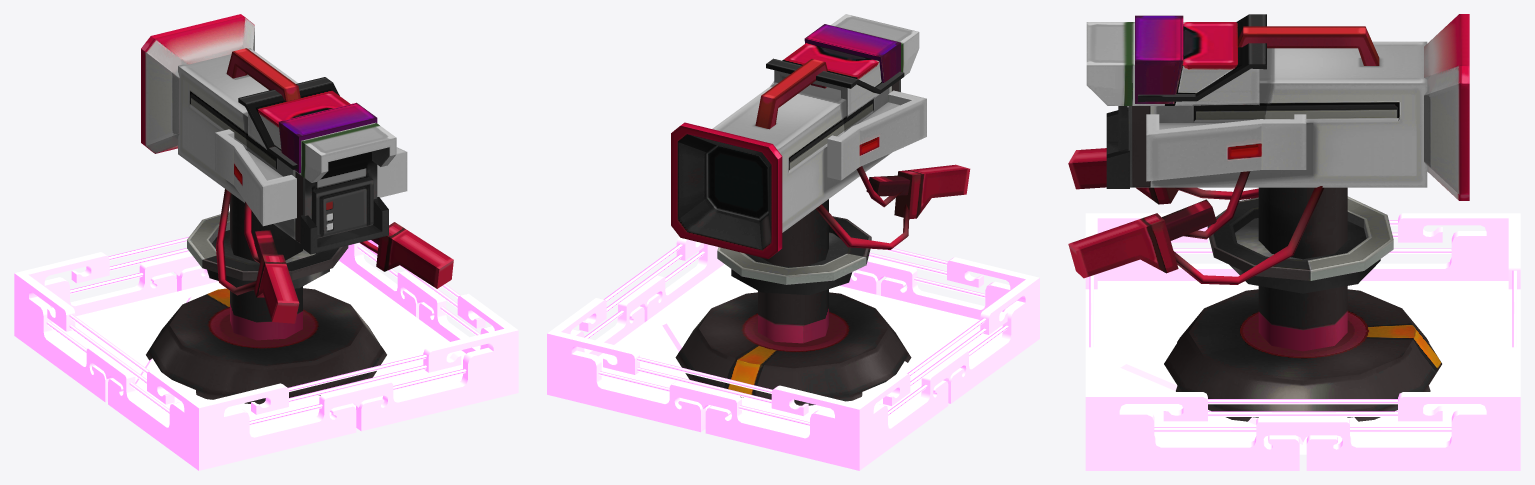
Rendered from trap_247_crfilm (merge).fbx.
3 renders of one model, left to right at view 1: azimuth 30°, elevation 25°; view 2: azimuth 150°, elevation 25°; view 3: azimuth 270°, elevation 25°, orthographic. The views are drawn at different scales.
Visible parts, largest first — view 1: trap_240_dyffdd, part2, polySurface21, polySurface8, polySurface7, polySurface23, polySurface9, polySurface17, polySurface19, polySurface27, polySurface20, polySurface30 (+3 smaller); view 2: trap_240_dyffdd, part2, polySurface8, polySurface21, polySurface23, polySurface7, polySurface27, polySurface19, polySurface30, polySurface29, polySurface26, polySurface28; view 3: trap_240_dyffdd, part2, polySurface21, polySurface7, polySurface13, polySurface8, polySurface17, polySurface19, polySurface30, polySurface27, polySurface16, polySurface29 (+4 smaller).
Boxes of the visible parts, x1,y1,x2,y2 form: trap_240_dyffdd: (14,237,518,470); part2: (146,193,386,404); polySurface21: (178,48,377,243); polySurface8: (141,14,254,153); polySurface7: (248,89,396,182); polySurface23: (215,129,296,226); polySurface9: (312,177,373,237); polySurface17: (376,222,453,288); polySurface19: (278,102,377,173); polySurface27: (254,254,299,323); polySurface20: (300,197,388,254); polySurface30: (226,48,300,101); trap_240_dyffdd: (547,237,1039,470); part2: (675,199,911,405); polySurface8: (671,122,782,258); polySurface21: (712,79,900,232); polySurface23: (827,90,926,180); polySurface7: (774,14,919,117); polySurface27: (894,164,970,219); polySurface19: (804,24,900,82); polySurface30: (755,59,827,129); polySurface29: (766,58,904,93); polySurface26: (816,204,909,249); polySurface28: (866,175,910,196); trap_240_dyffdd: (1085,213,1520,470); part2: (1164,187,1441,421); polySurface21: (1128,41,1427,187); polySurface7: (1086,22,1259,105); polySurface13: (1146,114,1306,181); polySurface8: (1424,14,1469,200); polySurface17: (1068,213,1178,278); polySurface19: (1135,15,1183,103); polySurface30: (1238,26,1379,65); polySurface27: (1068,148,1178,204); polySurface16: (1173,186,1323,284); polySurface29: (1138,14,1266,101).
Bounding box in the file's own units: 1 × 0.8826 × 1.04.
